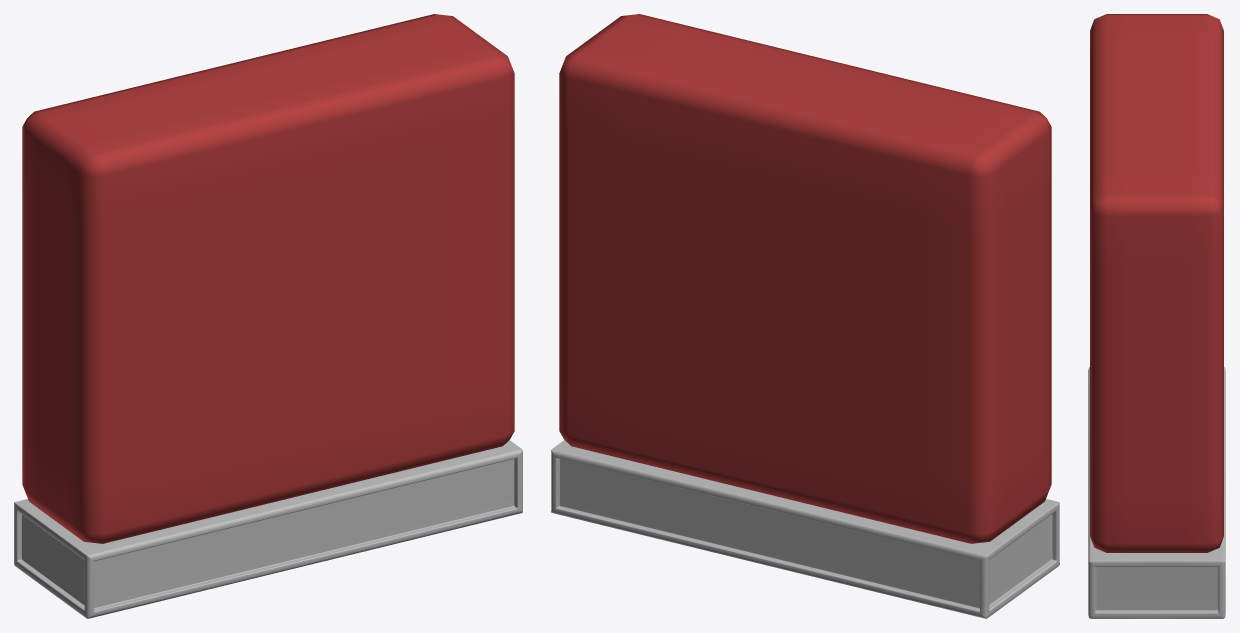
File: Chamber2.fbx
3 renders of one model, left to right at view 1: azimuth 30°, elevation 25°; view 2: azimuth 150°, elevation 25°; view 3: azimuth 270°, elevation 25°, orthographic. The views are drawn at different scales.
Parts seen in each view (by area): view 1: Chamber3; view 2: Chamber3; view 3: Chamber3.
Boxes of the visible parts, left/top/right/bottom form: Chamber3: left=14, top=14, right=522, bottom=618; Chamber3: left=551, top=14, right=1059, bottom=618; Chamber3: left=1088, top=14, right=1225, bottom=618.
Bounding box in the file's own units: 631 × 629 × 188.
